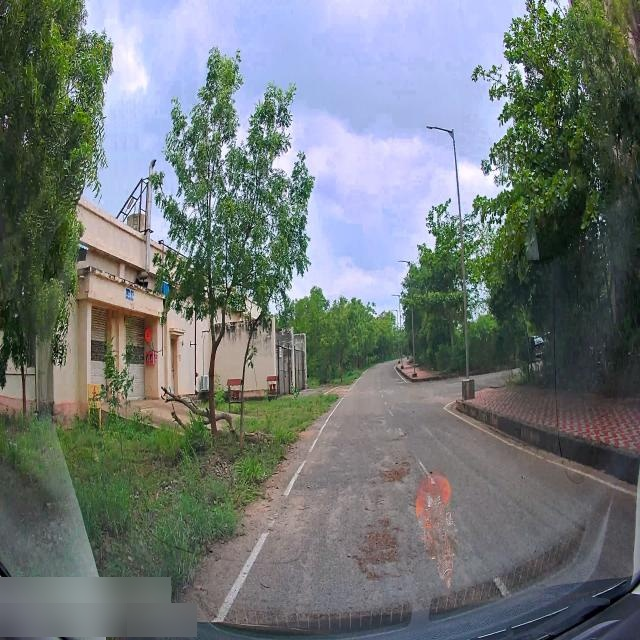pothole: (374, 448, 416, 478), (330, 485, 348, 546), (358, 476, 382, 516), (373, 405, 388, 429), (390, 426, 410, 442)
